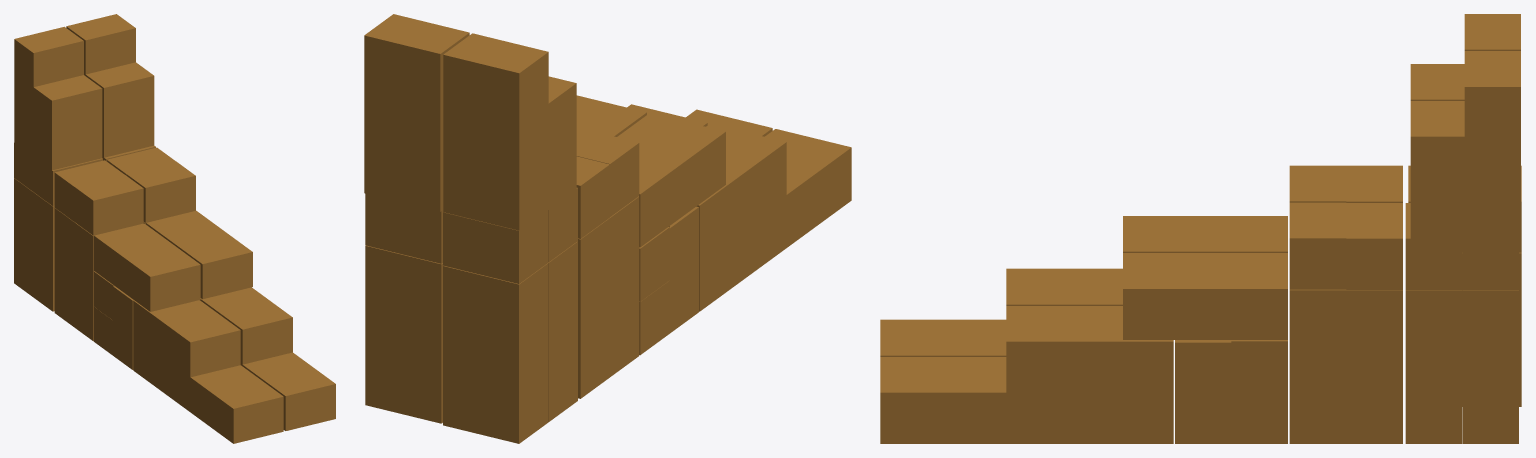
File: caixas_escada.fbx
3 renders of one model, left to right at view 1: azimuth 30°, elevation 25°; view 2: azimuth 150°, elevation 25°; view 3: azimuth 270°, elevation 25°, orthographic. The views are drawn at different scales.
Visible parts, largest first — view 1: box2.054; view 2: box2.054; view 3: box2.054.
Part boxes in pixels (x1,y1,x2,y2): box2.054: [14, 14, 335, 443]; box2.054: [364, 14, 851, 443]; box2.054: [880, 14, 1521, 443].
Bounding box in the file's own units: 169 × 386 × 628.
